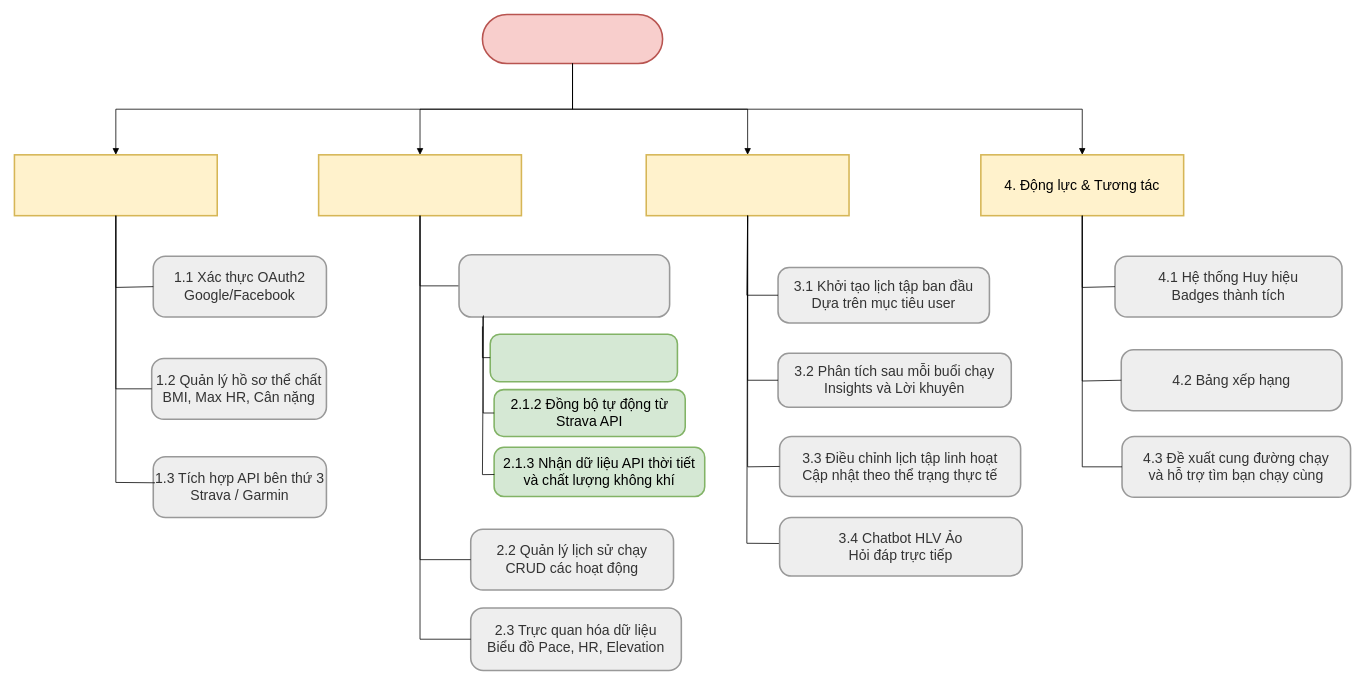
Some shapes in this 1364 by 684 pixel diagram are drawn without their labels. The centre of each missing label's shape, as x and y in pixels:
"1. Quản lý Tài khoản & Hồ sơ" belongs at point (115, 185).
"2. Xử lý Dữ liệu Hoạt động" belongs at point (419, 185).
"2.1 Import và Bóc tách dữ liệu" belongs at point (564, 285).
"2.1.1 Người dùng tự tải lên file GPX/FIT" belongs at point (583, 357).
"3. Trợ lý AI Thông minh" belongs at point (747, 185).
"Website trợ lý chạy bộ AI" belongs at point (572, 38).
